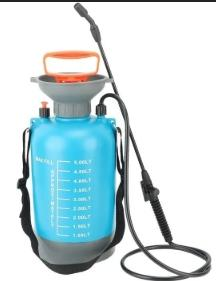PULVERISATEUR: (11, 0, 212, 281)
